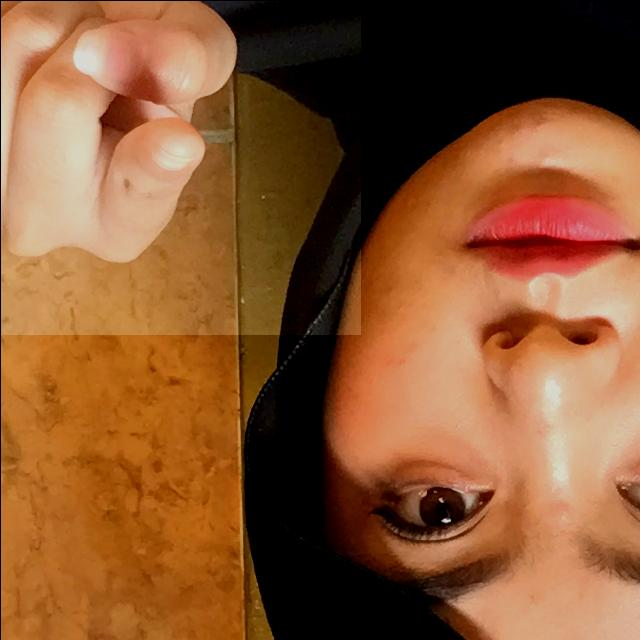kamu: (0, 0, 360, 334)
